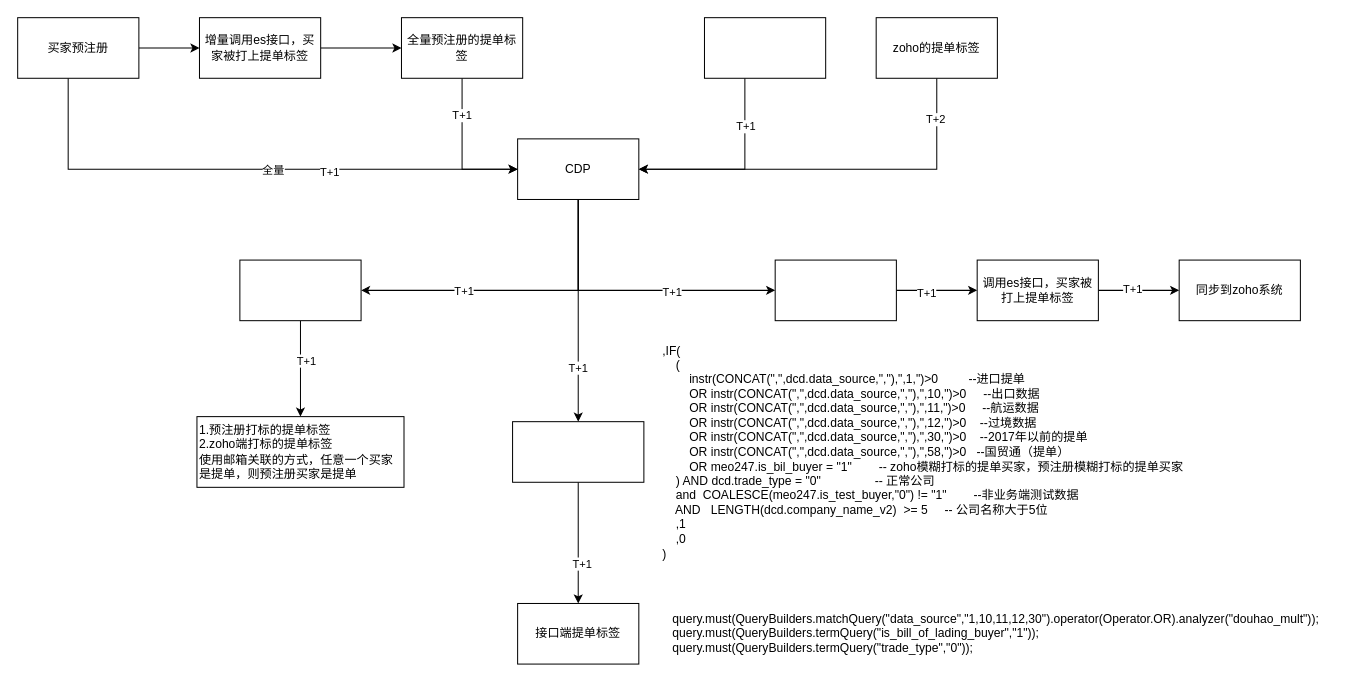
The diagram is 1358 pixels wide and 682 high, and some of its shapes have lost their labels. Each missing label, with the box of its shape:
CDP端买家总表的提单标签 is_bill_of_lading_buyer: (512, 421, 644, 482)
zoho增量数据入cdp: (703, 17, 826, 78)
zoho的增量买家: (774, 259, 896, 321)
预注册报表端: (239, 259, 361, 321)
